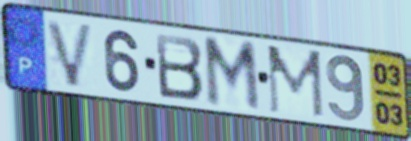6: (101, 26, 143, 95)
9: (323, 53, 367, 124)
B: (153, 31, 206, 103)
M: (200, 35, 263, 115), (264, 43, 326, 121)
V: (44, 17, 97, 90)
